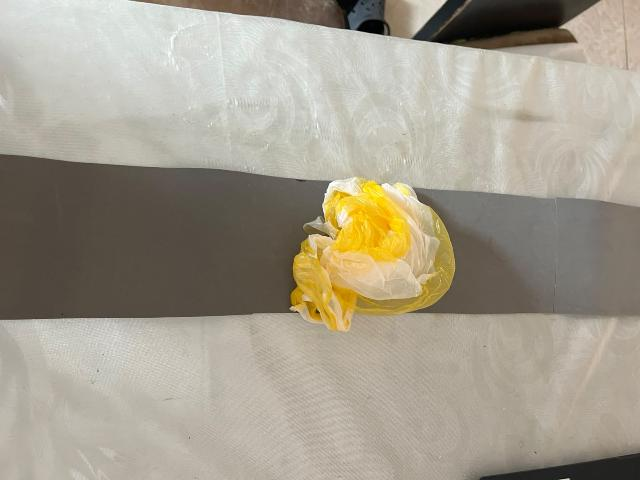LDPE: (264, 147, 511, 374)
